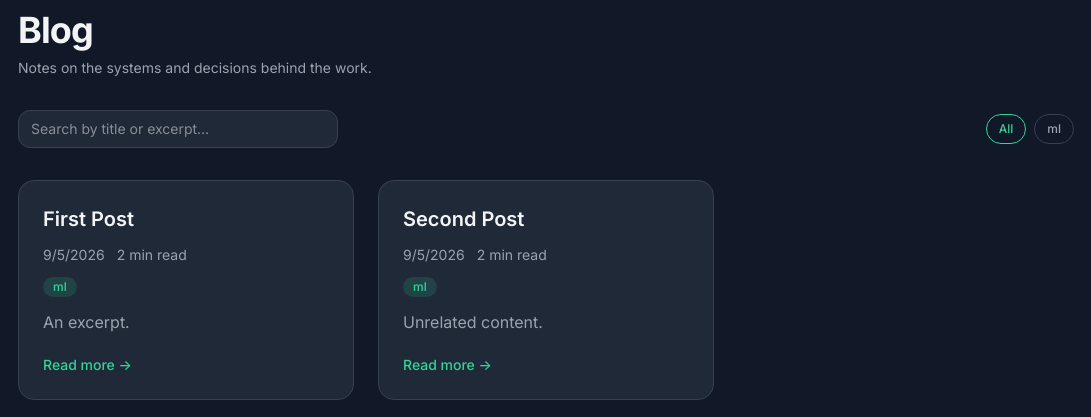
Test: CmsBlogListPage › lists published posts and filters by search
expect the heading "First Post" is shown: met, box [43, 207, 134, 231]
expect the heading "Second Post" is shown: met, box [403, 207, 524, 231]
In the search field named "Search articles": (178, 129) [18, 110, 338, 148], type "Unrelated"
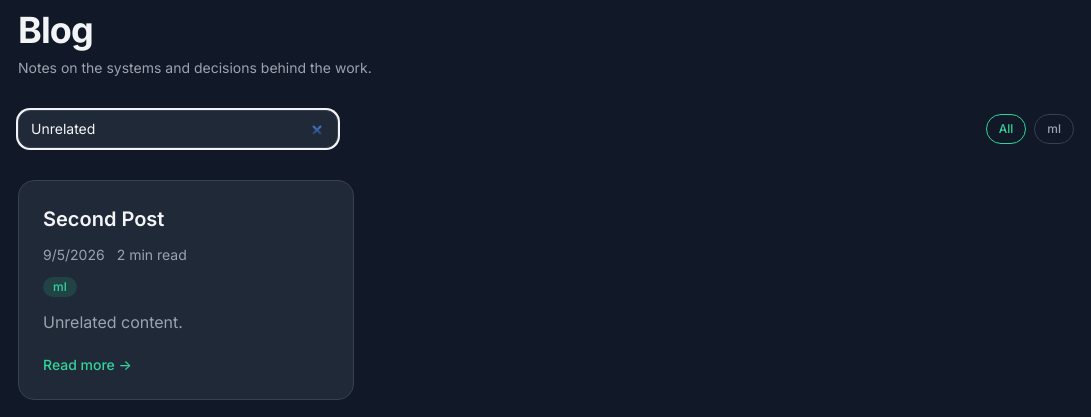
expect the heading "Second Post" is shown: met, box [43, 207, 164, 231]
expect the link "First Post" is gone: met
